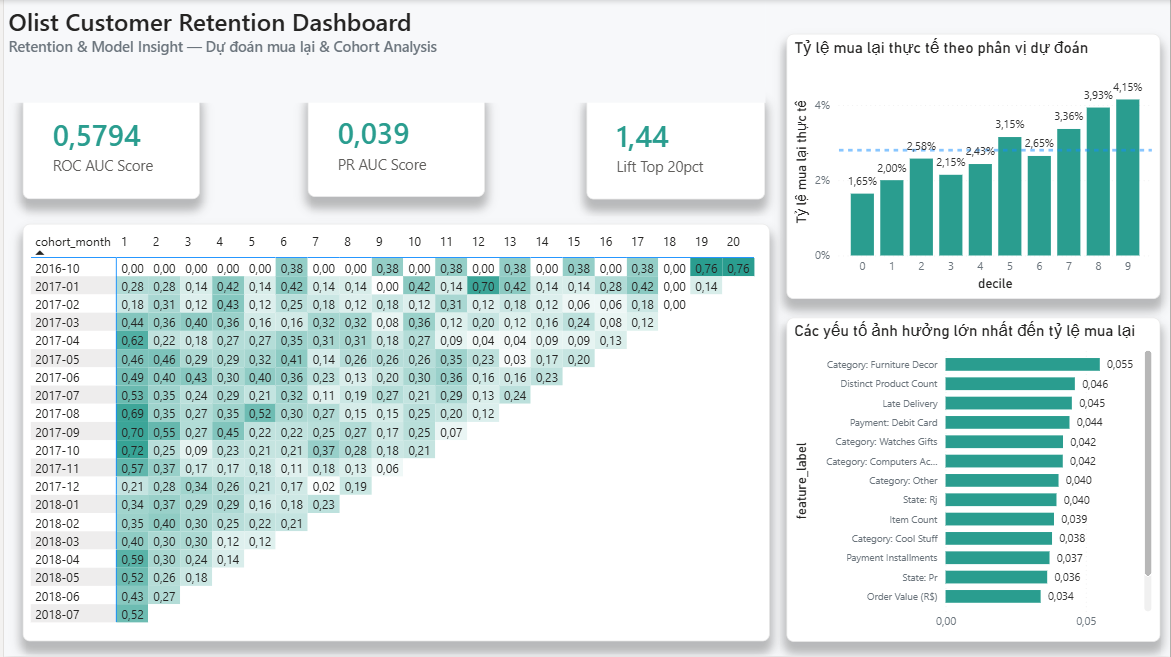

The page's visual inventory and layout, read from the dashboard file:
{"tool":"powerbi","page":{"name":"Retention & Model","canvas":[1280,720],"ordinal":2},"visuals":[{"type":"cardVisual","fields":{"Data":["Measure_Table.ROC AUC Score"]},"box":[20,100,194.3,118.6],"z":0},{"type":"cardVisual","fields":{"Data":["Measure_Table.PR AUC Score"]},"box":[332.9,100,194.3,115.7],"z":1000},{"type":"cardVisual","fields":{"Data":["Measure_Table.Lift Top 20pct"]},"box":[640,102.9,195.7,115.7],"z":2000},{"type":"columnChart","title":"Tỷ lệ mua lại thực tế theo phân vị dự đoán","fields":{"Y":["Sum(model_lift_deciles.actual_repeat_rate)"],"Category":["model_lift_deciles.decile"]},"box":[858.6,37.1,410,291.4],"z":3000},{"type":"clusteredBarChart","title":"Các yếu tố ảnh hưởng lớn nhất đến tỷ lệ mua lại","fields":{"Y":["Sum(feature_importance.importance)"],"Category":["feature_importance.feature_label"]},"box":[858.6,348.6,410,355.7],"z":4000},{"type":"pivotTable","fields":{"Rows":["cohort_retention_long.cohort_month"],"Columns":["cohort_retention_long.period_number"],"Values":["Sum(cohort_retention_long.retention_pct)"]},"box":[20,245.7,820,458.6],"z":5000},{"type":"textbox","box":[0,0,835.7,112.5],"z":6000}]}

Visuals, with their boxes in screenshot pixels (x1, y1, x2, y2), scaled from the page's 1280x720 canvas onto the 1171x657 screenshot:
cardVisual - Measure_Table.ROC AUC Score: l=18, t=91, r=196, b=199
cardVisual - Measure_Table.PR AUC Score: l=305, t=91, r=482, b=197
cardVisual - Measure_Table.Lift Top 20pct: l=586, t=94, r=765, b=199
"Tỷ lệ mua lại thực tế theo phân vị dự đoán" columnChart: l=785, t=34, r=1161, b=300
"Các yếu tố ảnh hưởng lớn nhất đến tỷ lệ mua lại" clusteredBarChart: l=785, t=318, r=1161, b=643
pivotTable - cohort_retention_long.cohort_month x cohort_retention_long.period_number: l=18, t=224, r=768, b=643
textbox: l=0, t=0, r=765, b=103
